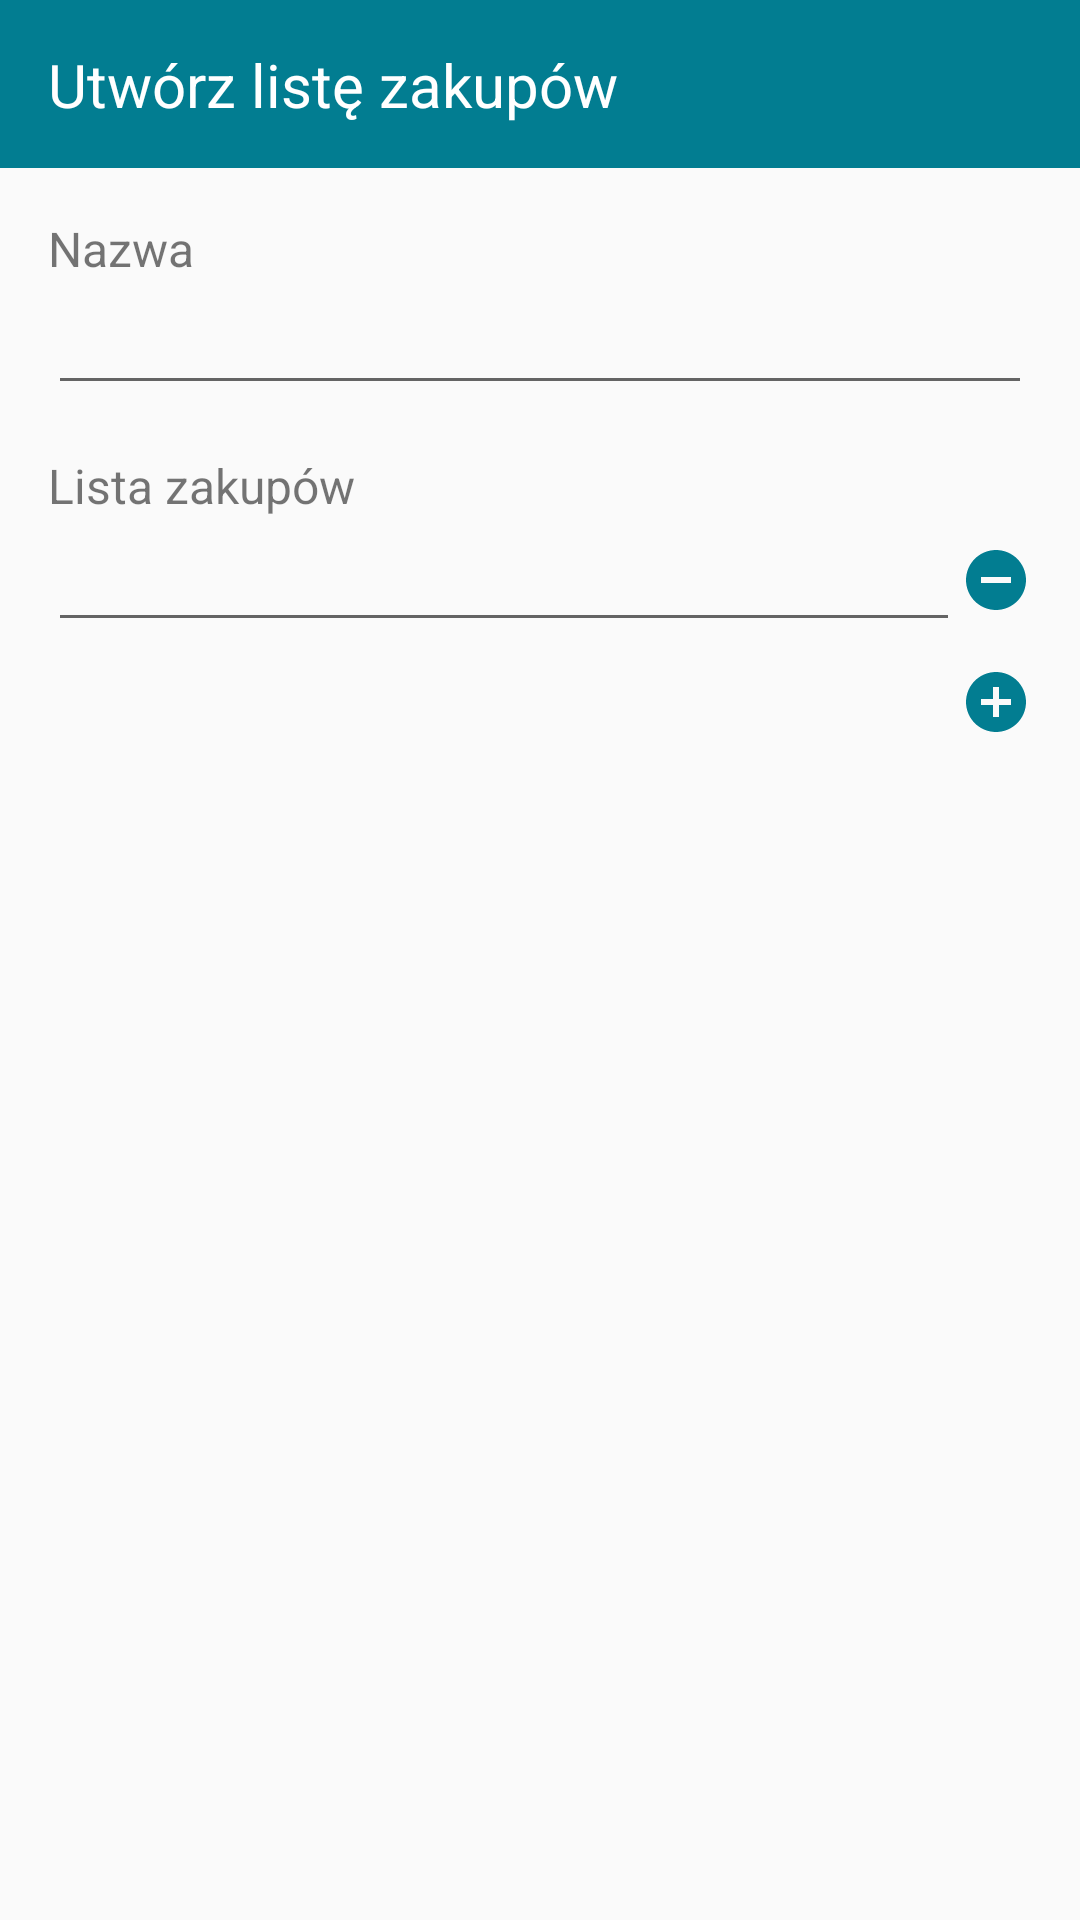

Where to tap for icons on this 1080*1920 app screen, as (x=x, y=y):
add circle: (x=996, y=702)
remove circle: (x=996, y=580)
